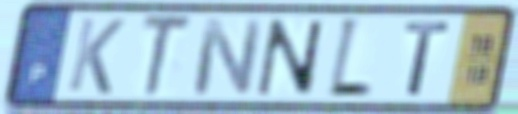K: (64, 14, 128, 97)
L: (324, 13, 376, 102)
N: (190, 16, 266, 98), (255, 16, 326, 98)
T: (139, 12, 196, 101), (401, 19, 455, 99)
